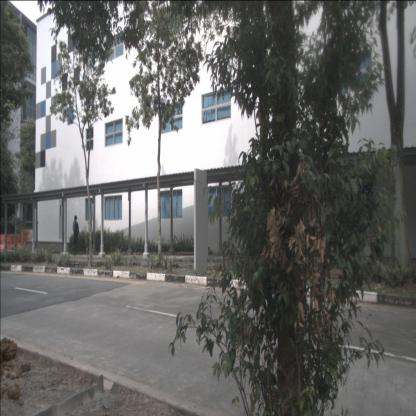human-pedestrian-adult: (72, 215, 80, 256)
movable_object-barrier: (7, 234, 21, 250), (21, 230, 34, 246), (0, 234, 6, 249)
